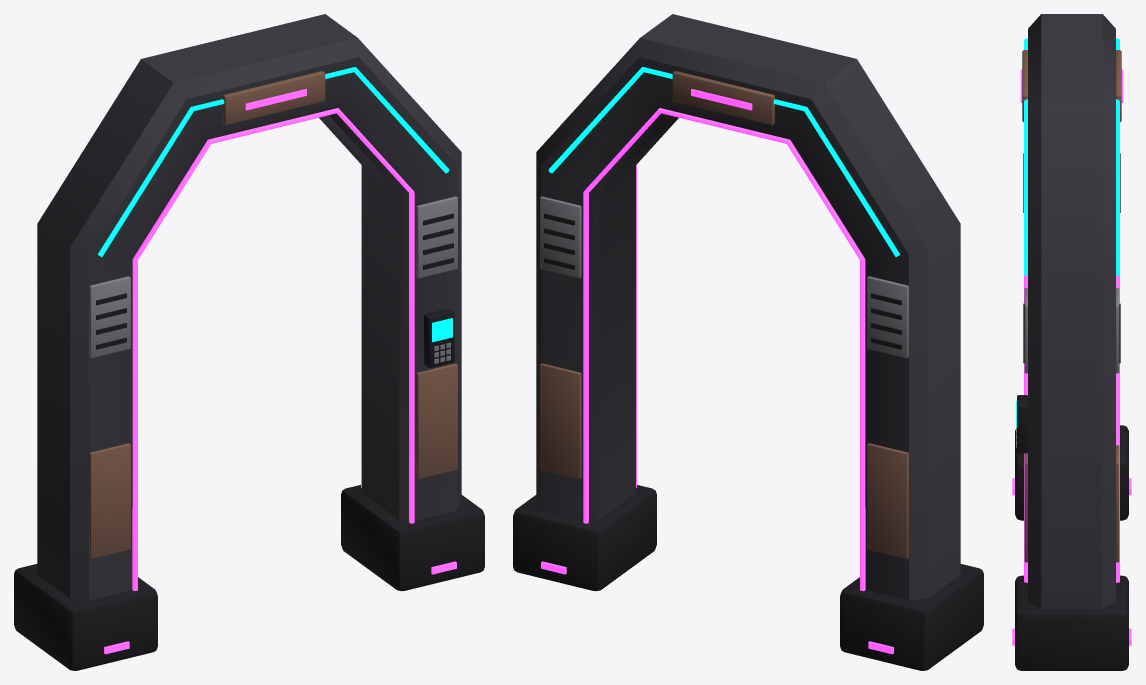
Rendered from KIT_Portal.glb.
3 renders of one model, left to right at view 1: azimuth 30°, elevation 25°; view 2: azimuth 150°, elevation 25°; view 3: azimuth 270°, elevation 25°, orthographic. The views are drawn at different scales.
Parts seen in each view (by area): view 1: KIT_Portal; view 2: KIT_Portal; view 3: KIT_Portal.
Boxes of the visible parts, left/top/right/bottom form: KIT_Portal: left=14, top=14, right=484, bottom=670; KIT_Portal: left=513, top=14, right=983, bottom=670; KIT_Portal: left=1012, top=14, right=1131, bottom=670.
Bounding box in the file's own units: 2.06 × 2.62 × 0.544.
